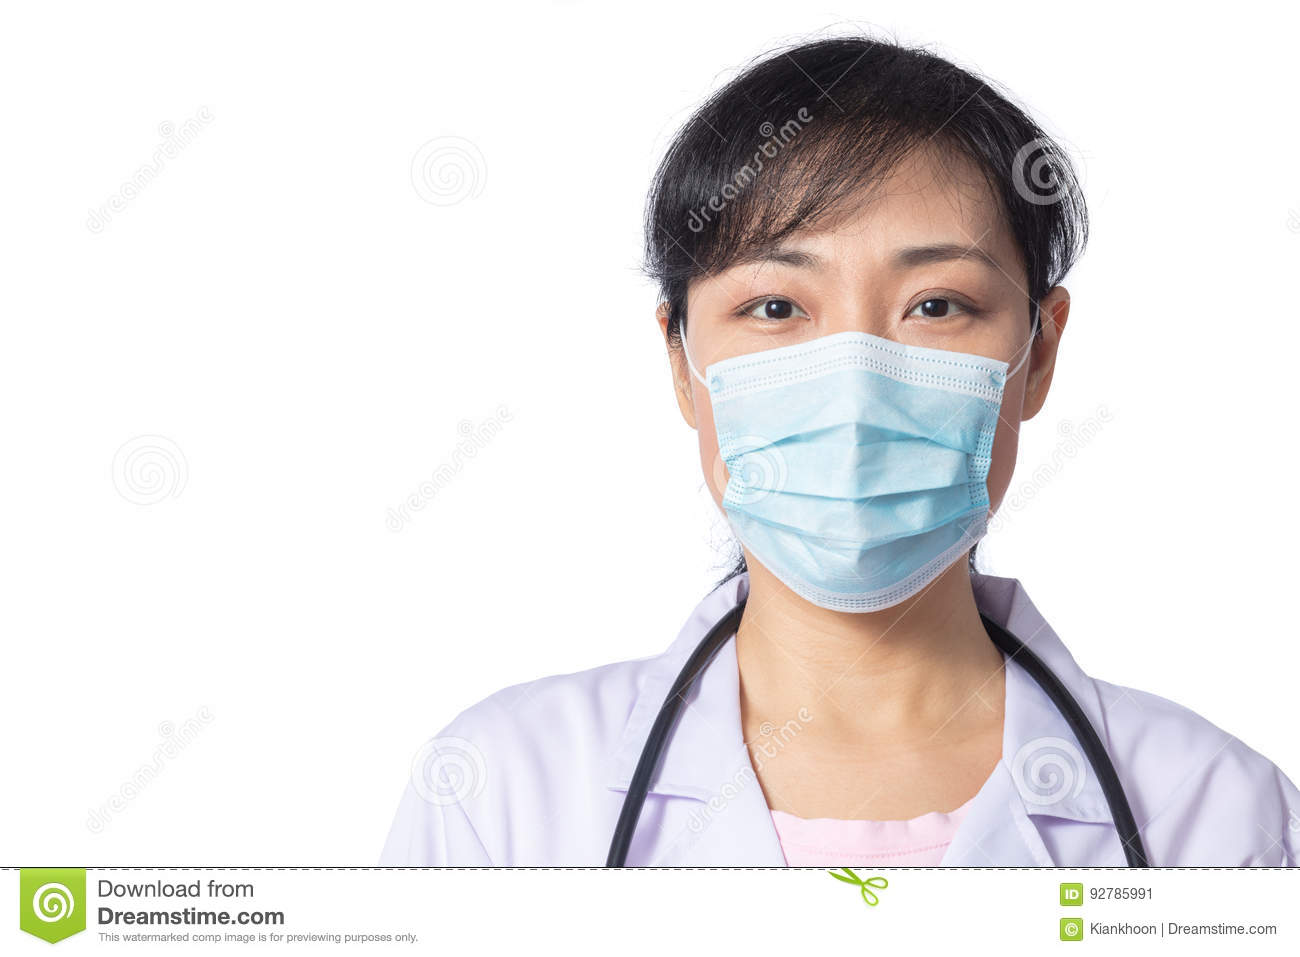mask: (703, 344, 1030, 609)
